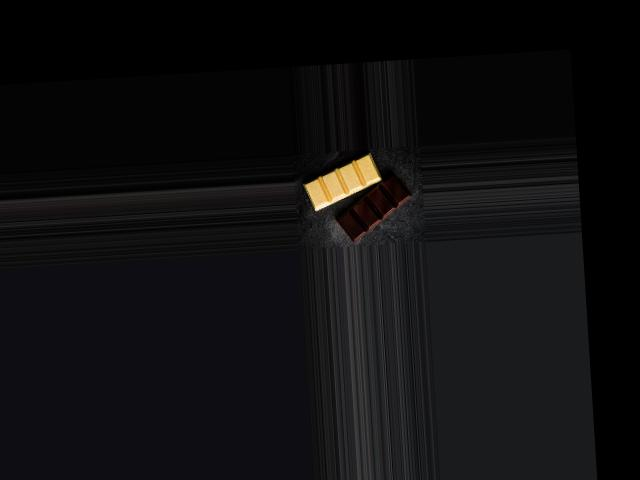chocolate: (297, 151, 413, 243)
